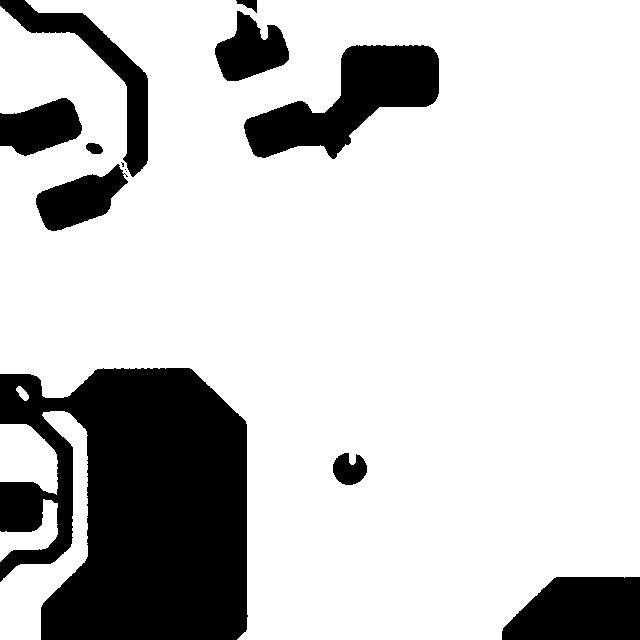copper: (76, 133, 112, 163)
mousebite: (337, 435, 365, 474), (250, 14, 277, 49)
open: (220, 0, 276, 39), (105, 144, 143, 196)
pin-hole: (6, 376, 38, 410)
short: (22, 479, 69, 512)
spur: (310, 126, 360, 168)
